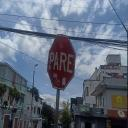Pare: (46, 31, 78, 94)
